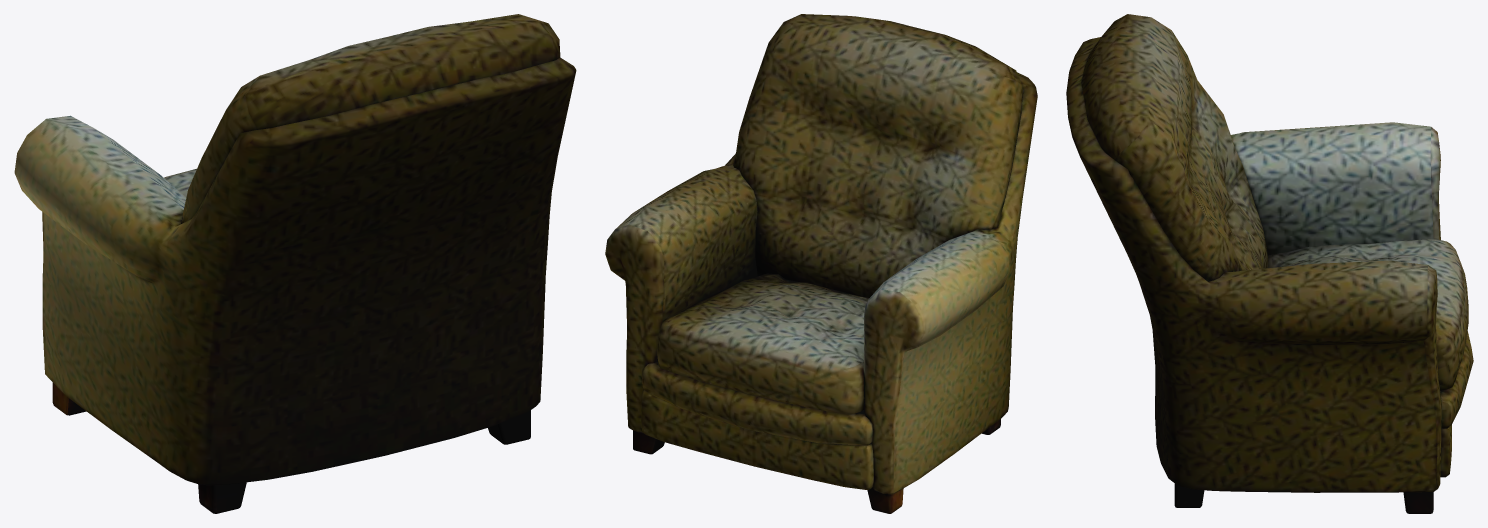
The model's file is armchair.glb.
3 renders of one model, left to right at view 1: azimuth 30°, elevation 25°; view 2: azimuth 150°, elevation 25°; view 3: azimuth 270°, elevation 25°, orthographic. The views are drawn at different scales.
Parts seen in each view (by area): view 1: body; view 2: body; view 3: body.
Boxes of the visible parts, left/top/right/bottom form: body: left=14, top=14, right=576, bottom=513; body: left=605, top=14, right=1037, bottom=513; body: left=1066, top=14, right=1473, bottom=513.
Bounding box in the file's own units: 1.3 × 1.33 × 1.28.
1 material, 1 textured.
